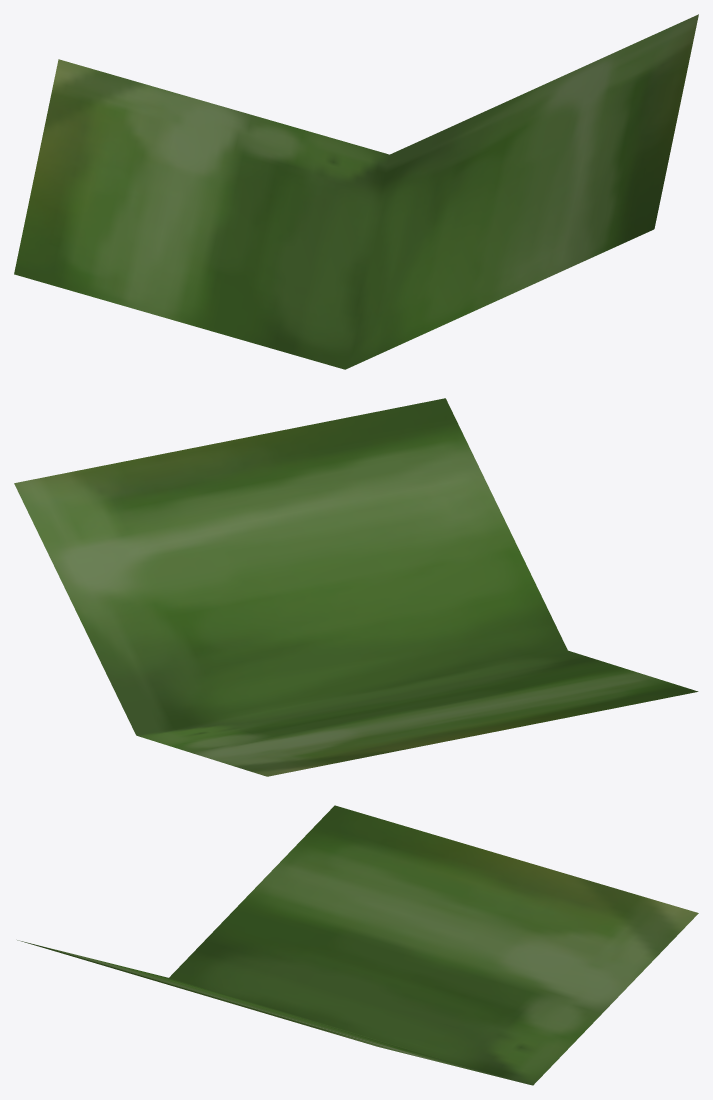
The model's file is Ramen_GreenOnion_01_Free.FBX.
3 renders of one model, top to bottom at view 1: azimuth 30°, elevation 25°; view 2: azimuth 150°, elevation 25°; view 3: azimuth 270°, elevation 25°, orthographic. The views are drawn at different scales.
Visible parts, largest first — view 1: Ramen_GreenOnion_01_Free; view 2: Ramen_GreenOnion_01_Free; view 3: Ramen_GreenOnion_01_Free.
Boxes of the visible parts, box(x1,y1,x2,y2) form: Ramen_GreenOnion_01_Free: box(14, 14, 698, 369); Ramen_GreenOnion_01_Free: box(14, 398, 698, 776); Ramen_GreenOnion_01_Free: box(17, 805, 698, 1085).
Size of the model in its own units: 6.38 by 1.3 by 6.13.
